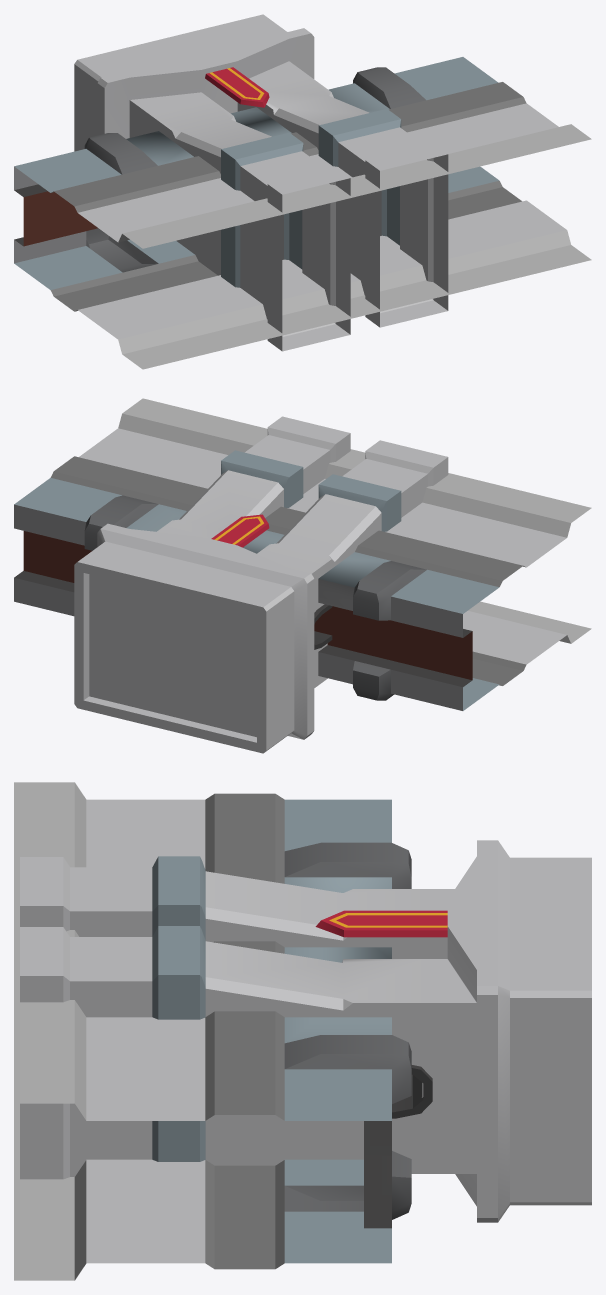
The model's file is WallTower.dae.
3 renders of one model, top to bottom at view 1: azimuth 30°, elevation 25°; view 2: azimuth 150°, elevation 25°; view 3: azimuth 270°, elevation 25°, orthographic. The views are drawn at different scales.
Parts seen in each view (by area): view 1: Wall_ArcheryTower; view 2: Wall_ArcheryTower; view 3: Wall_ArcheryTower.
Boxes of the visible parts, left/top/right/bottom form: Wall_ArcheryTower: left=14, top=14, right=591, bottom=369; Wall_ArcheryTower: left=14, top=398, right=591, bottom=753; Wall_ArcheryTower: left=14, top=782, right=591, bottom=1280.
Bounding box in the file's own units: 6.62 × 5.03 × 2.27.
